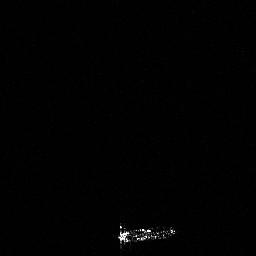ship: (113, 220, 178, 249)
